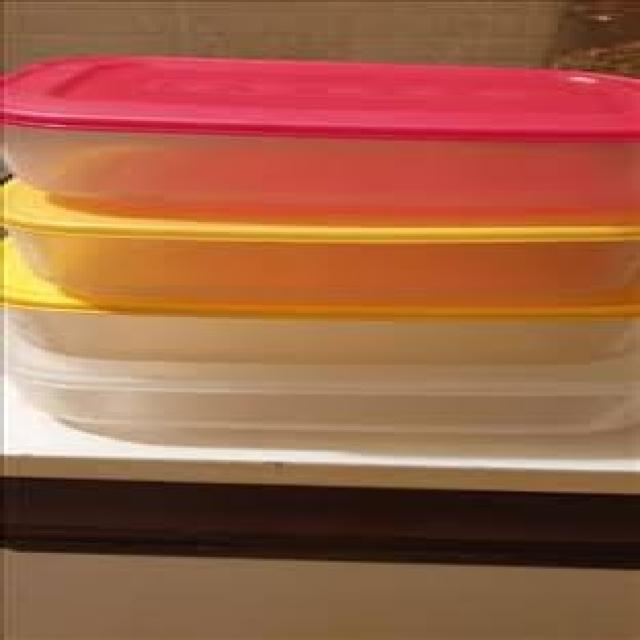plastic: (5, 50, 640, 212), (0, 294, 640, 447), (0, 188, 640, 304)
